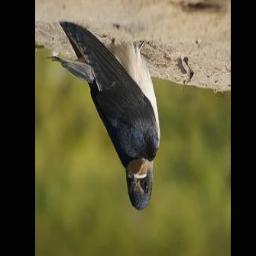Swallow: (47, 23, 160, 212)
